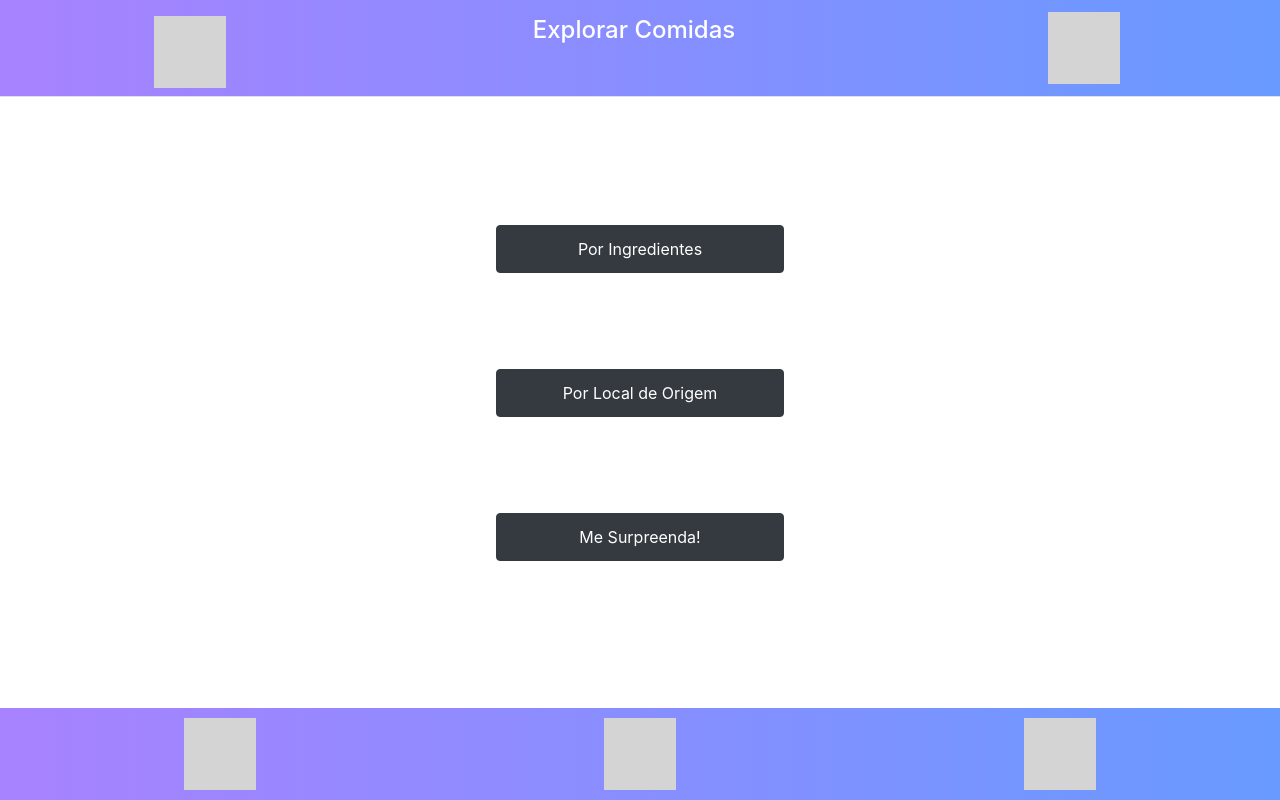
Página "Explorar Comidas" › Verifica se ao clicar em "Por Local de Origem" muda a rota
This screenshot has width=1280, height=800.
Click the button with test id "explore-by-area".
click(640, 393)  # box [496,369,784,417]
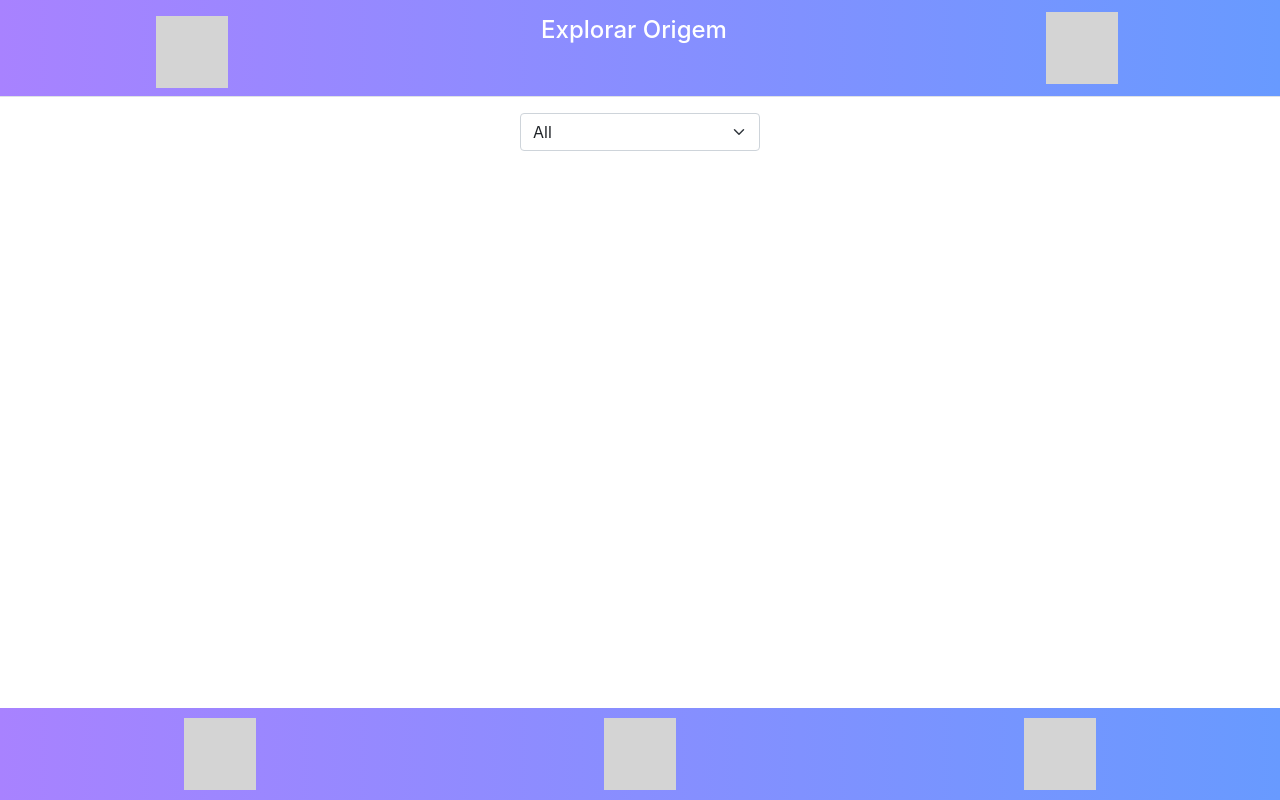
Expected: the heading "Explorar Origem" is shown, [541,15,727,44]
